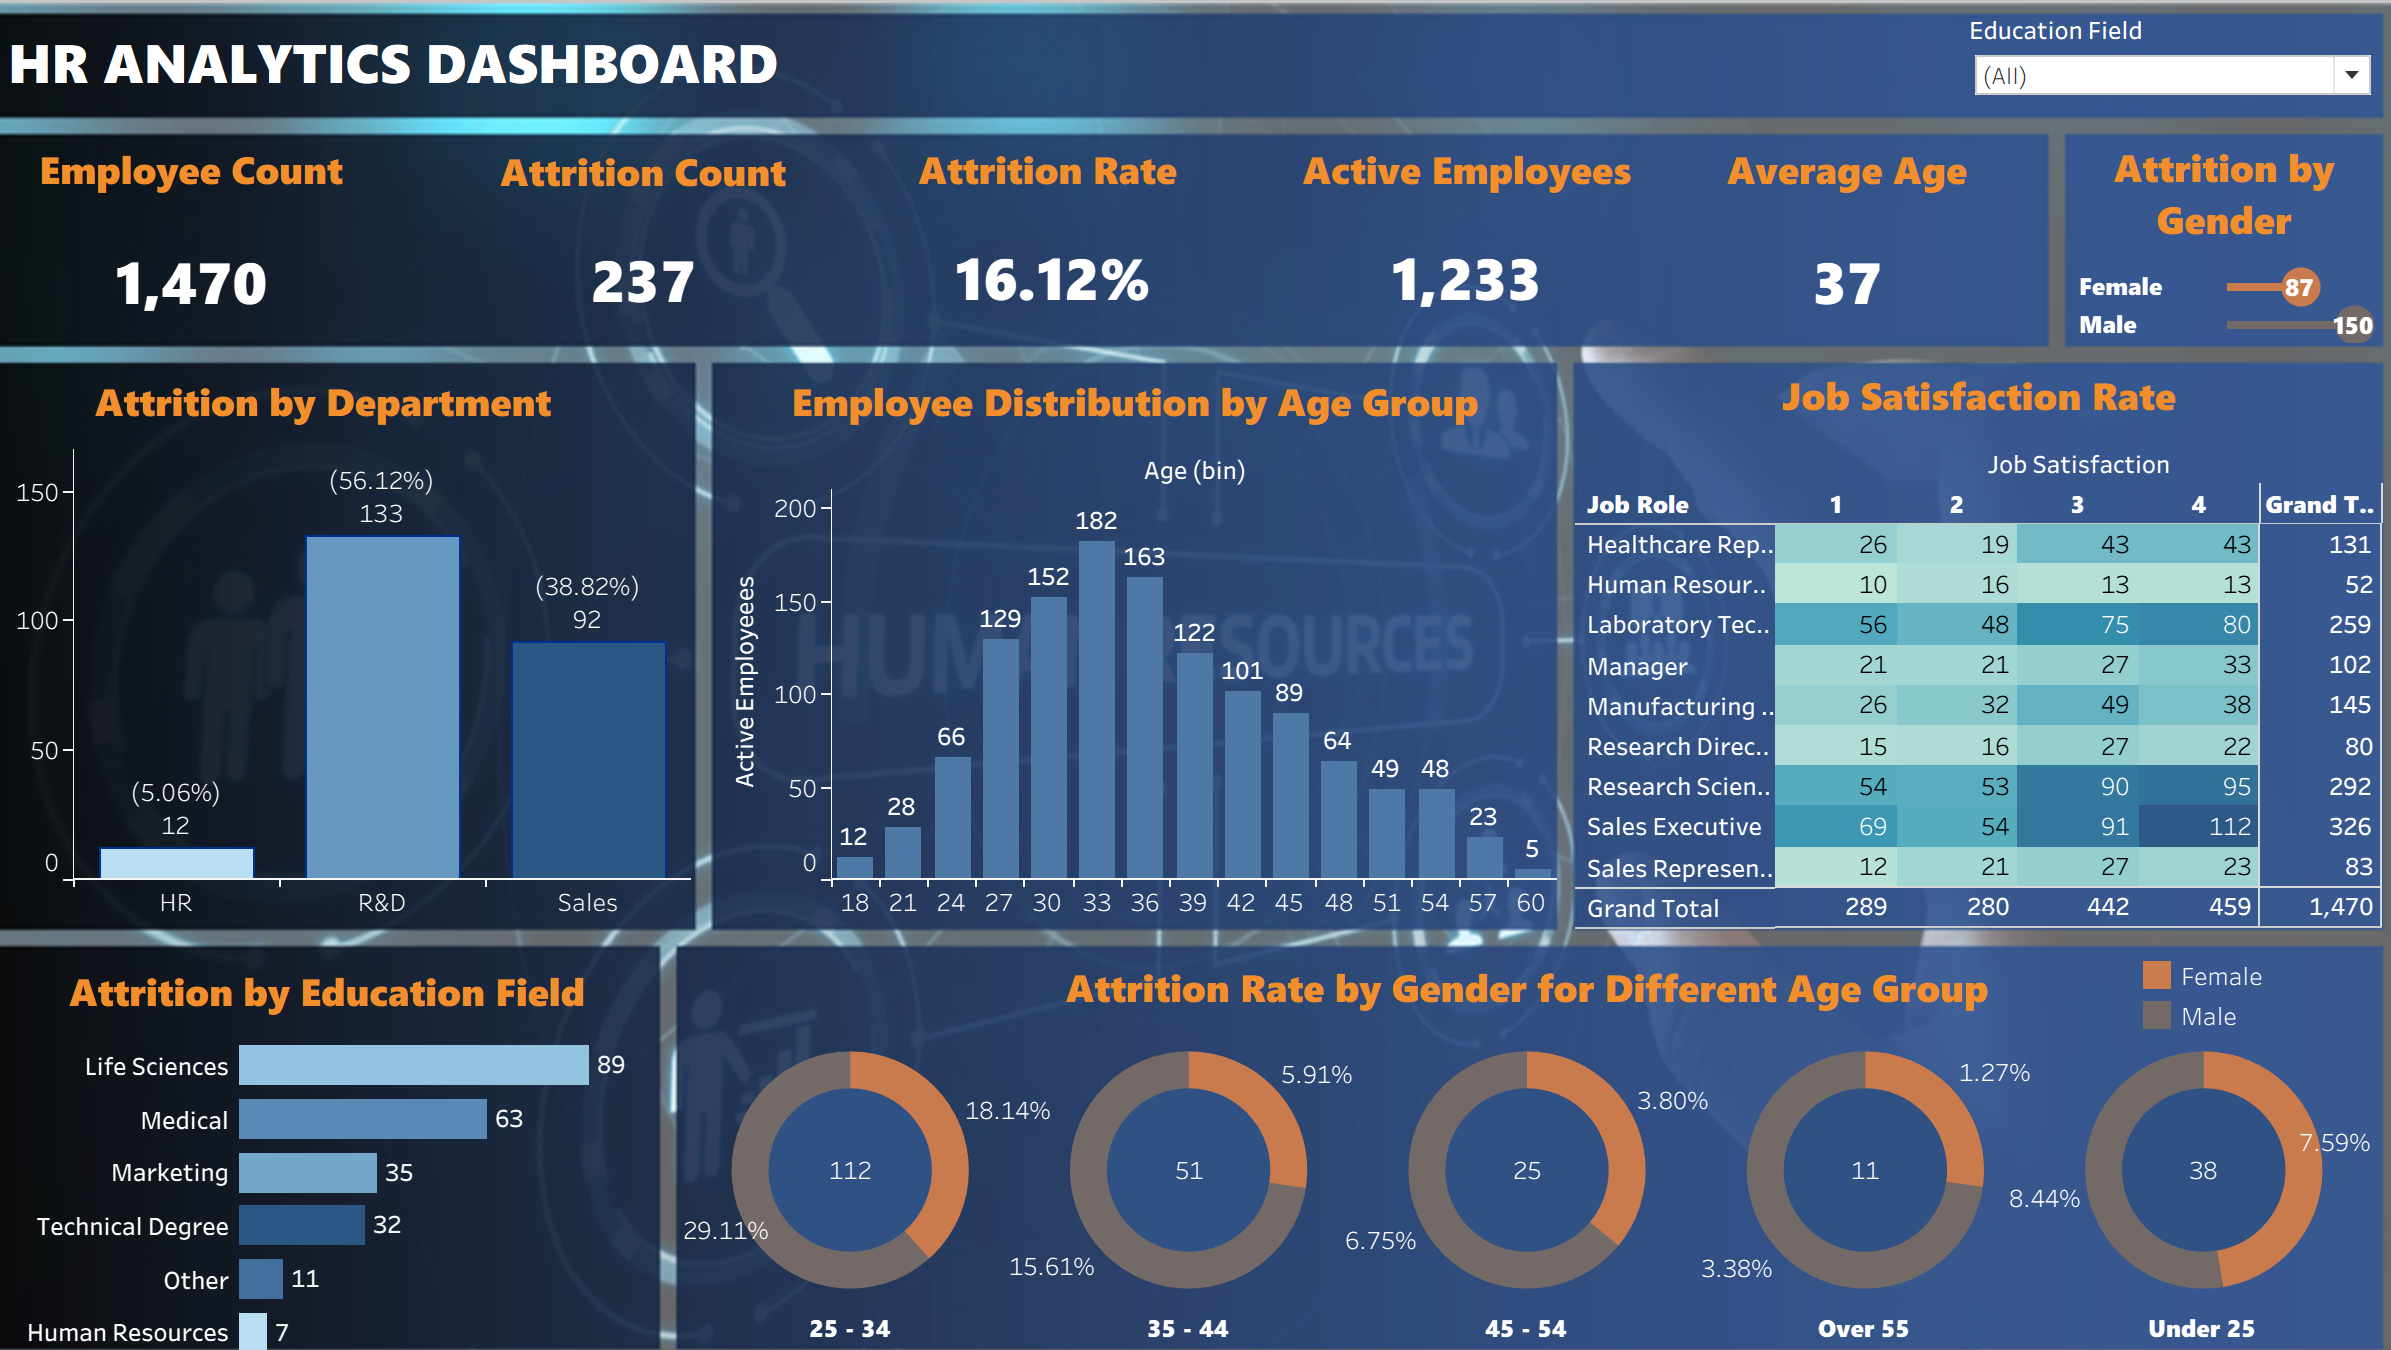

The dashboard page shown, as its layout file describes it:
{"tool":"tableau","page":{"name":"HR Analytic Dashboard","canvas":[1000,1000],"units":"permille","ordinal":0},"visuals":[{"type":"text","box":[5.8,28.8,380,57.5]},{"type":"filter","title":"Education Field wise attrition","param":"[federated.08a7mfv0ucal841eq510g08nvt8x].[none:Education Field:nk]","box":[820,30,170,56.2]},{"type":"worksheet","title":"Attrition by Gender","mark":"Bar","rows":["Gender"],"cols":["Calculation_0202092340019200","Calculation_0202092340019200"],"box":[862.5,101.2,130.8,131.2]},{"type":"worksheet","title":"Attrition Rate","mark":"Automatic","box":[335.8,102.5,208.3,125]},{"type":"worksheet","title":"active employees","mark":"Automatic","box":[508.3,102.5,208.3,125]},{"type":"worksheet","title":"Average Age","mark":"Automatic","box":[685,102.5,171.7,130]},{"type":"worksheet","title":"Attrition Count","mark":"Automatic","box":[165,103.8,208.3,125]},{"type":"worksheet","title":"Job Satisfaction Rate","mark":"Square","rows":["Job Role"],"cols":["Job Satisfaction"],"box":[657.5,243.8,336.7,355]},{"type":"worksheet","title":"Number of employees by age","mark":"Automatic","rows":["Calculation_0202092341493762"],"cols":["Age (bin)"],"box":[297.5,246.2,351.7,353.8]},{"type":"worksheet","title":"Attrition rate by gender for diff age groups","mark":"Pie","rows":["Calculation_1246631718977538","Calculation_1246631719534596"],"cols":["CF_age band"],"box":[285,613.8,705,245]},{"type":"legend","title":"Attrition rate by gender for diff age groups","param":"[federated.08a7mfv0ucal841eq510g08nvt8x].[none:Gender:nk]","box":[891.7,615,95.8,50]},{"type":"worksheet","title":"Education Field wise attrition","mark":"Automatic","rows":["Education Field"],"cols":["Calculation_0202092340019200"],"box":[0.8,616.2,273.3,251.2]}]}

Visuals, with their boxes on the dashboard's canvas, which has no fixed pixel size, in thousandths of its width and height (x1, y1, x2, y2). These are canvas units, not pixel positions in the 2391x1350 screenshot, which may show the page scaled, cropped or inside an application window:
text: region(6, 29, 386, 86)
"Education Field wise attrition" filter: region(820, 30, 990, 86)
"Attrition by Gender" worksheet (Bar marks): region(862, 101, 993, 232)
"Attrition Rate" worksheet: region(336, 102, 544, 228)
"active employees" worksheet: region(508, 102, 717, 228)
"Average Age" worksheet: region(685, 102, 857, 232)
"Attrition Count" worksheet: region(165, 104, 373, 229)
"Job Satisfaction Rate" worksheet (Square marks): region(658, 244, 994, 599)
"Number of employees by age" worksheet: region(298, 246, 649, 600)
"Attrition rate by gender for diff age groups" worksheet (Pie marks): region(285, 614, 990, 859)
"Attrition rate by gender for diff age groups" legend: region(892, 615, 988, 665)
"Education Field wise attrition" worksheet: region(1, 616, 274, 867)
